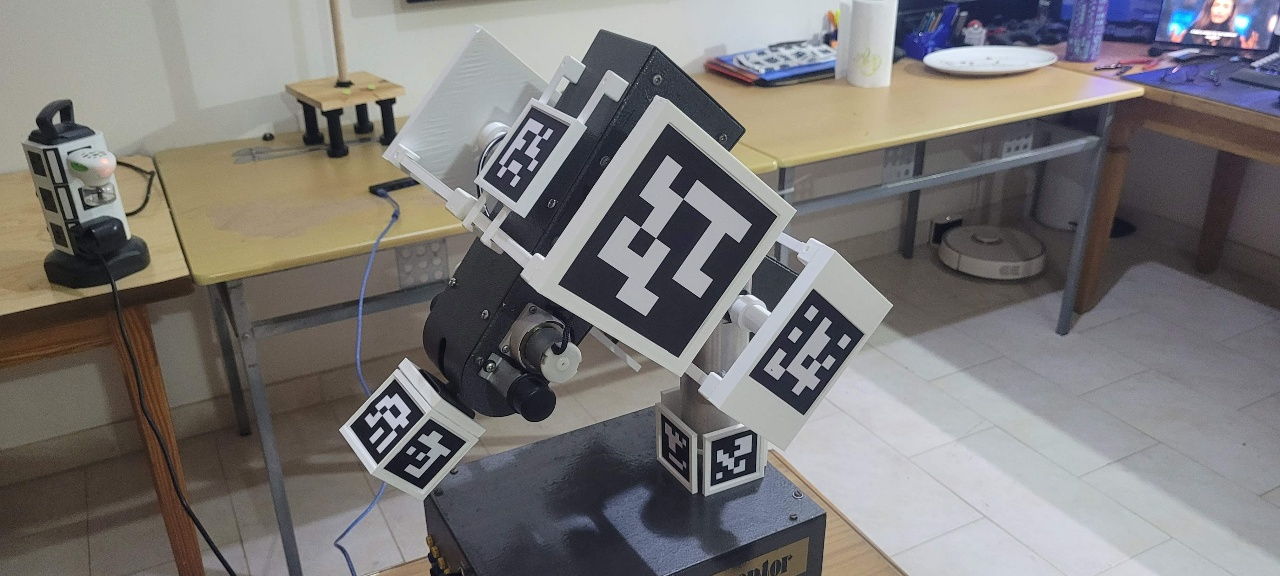Robot: (338, 25, 897, 505)
